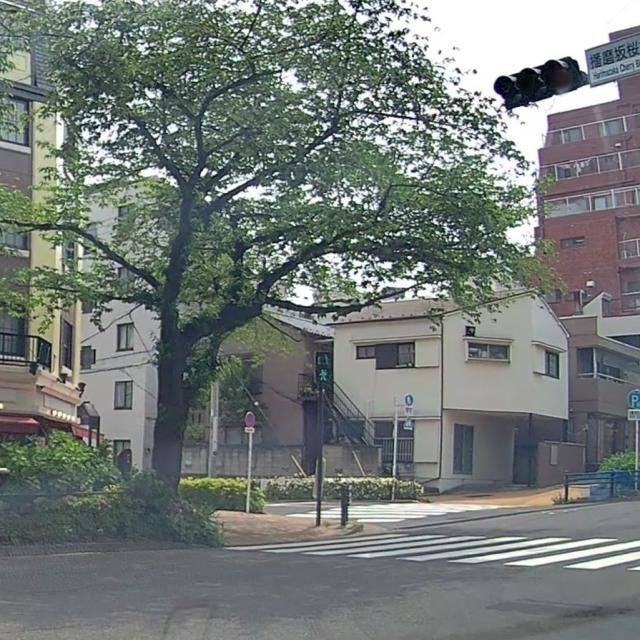sakura: (0, 0, 569, 498)
